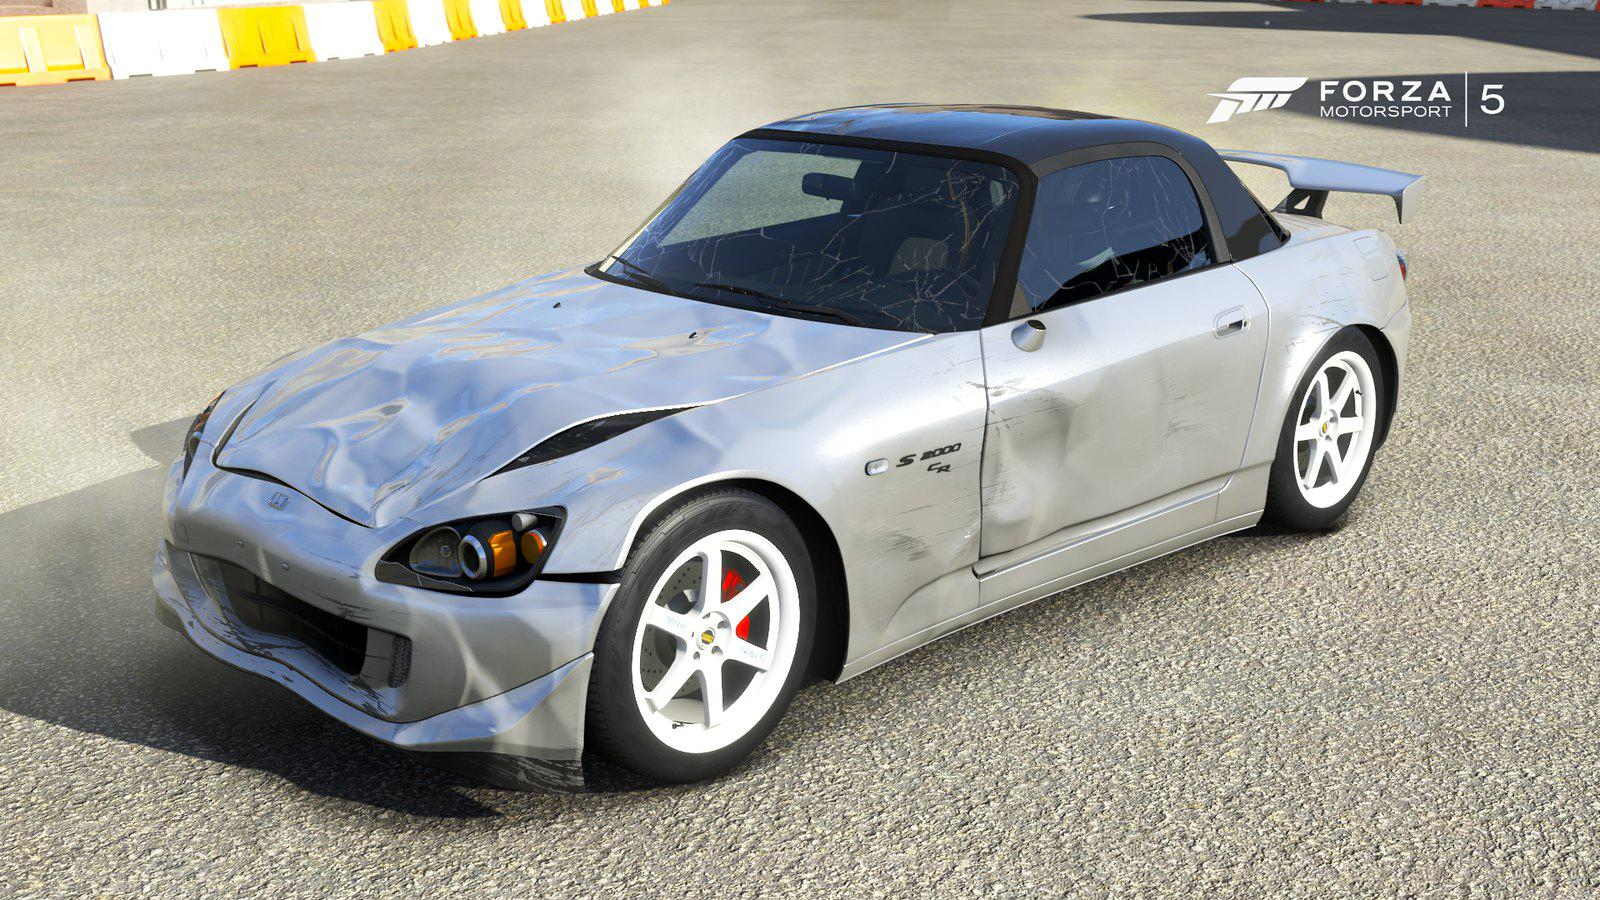Front-Windscreen-Damage: (643, 130, 979, 319)
bonnet-dent: (216, 258, 835, 463)
doorouter-dent: (978, 260, 1262, 525)
fender-dent: (488, 360, 957, 635)
front-bumper-dent: (116, 515, 418, 722)
quaterpanel-dent: (1262, 235, 1410, 364)
